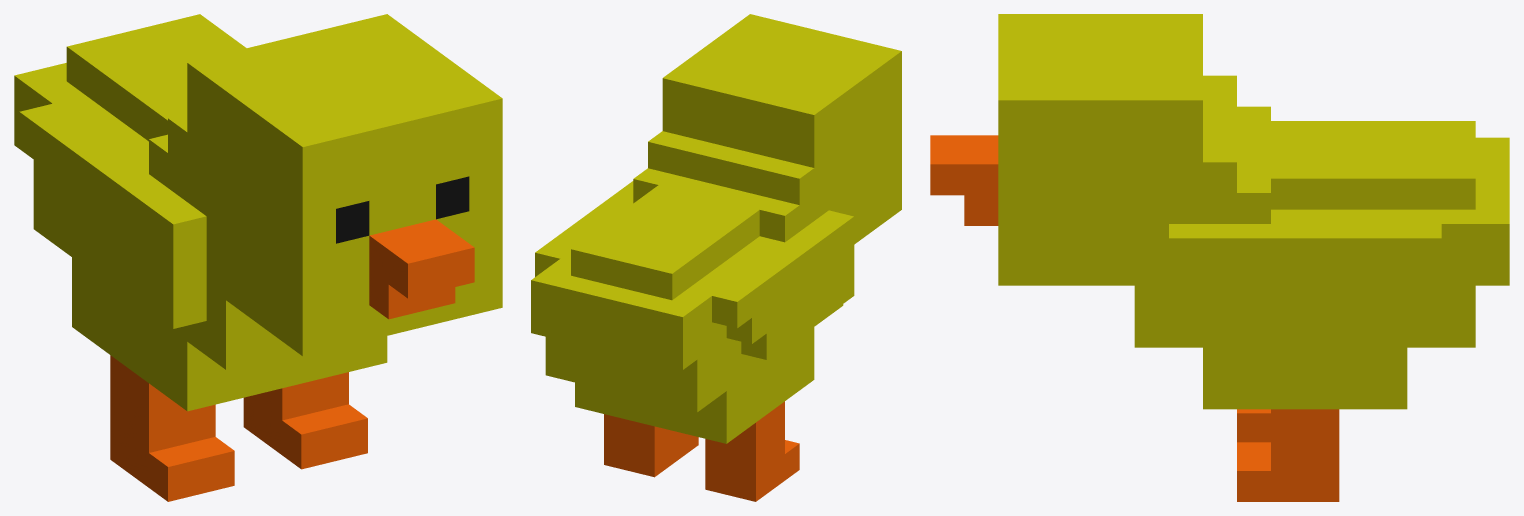
Rendered from uploads_files_4659005_chick (1).glb.
3 views of the same model, side by side, from view 1: azimuth 30°, elevation 25°; view 2: azimuth 150°, elevation 25°; view 3: azimuth 270°, elevation 25° (orthographic). The views are drawn at different scales.
Visible parts, largest first — view 1: untitled.001; view 2: untitled.001; view 3: untitled.001.
Boxes of the visible parts, x1,y1,x2,y2 form: untitled.001: (14, 14, 502, 501); untitled.001: (531, 14, 901, 501); untitled.001: (930, 14, 1509, 501).
Bounding box in the file's own units: 0.8 × 1.3 × 1.7.
Materials: 1 (1 with a texture image).
